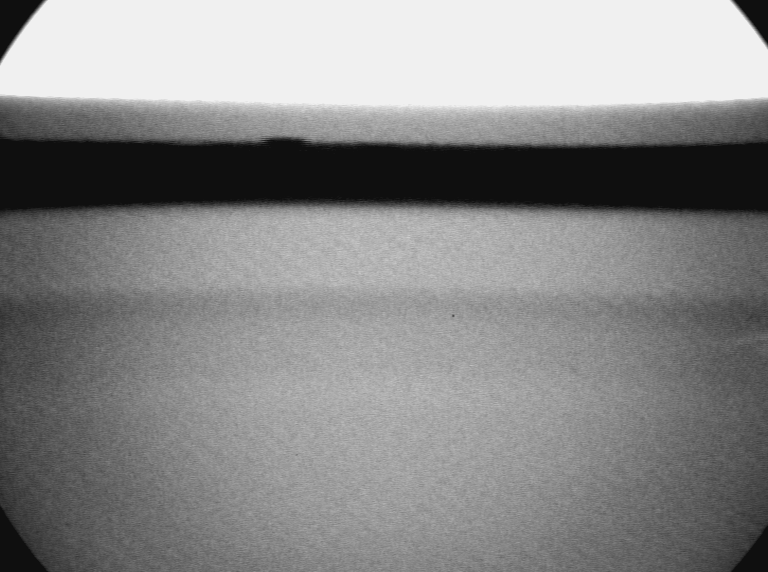defect: (728, 321, 767, 361)
